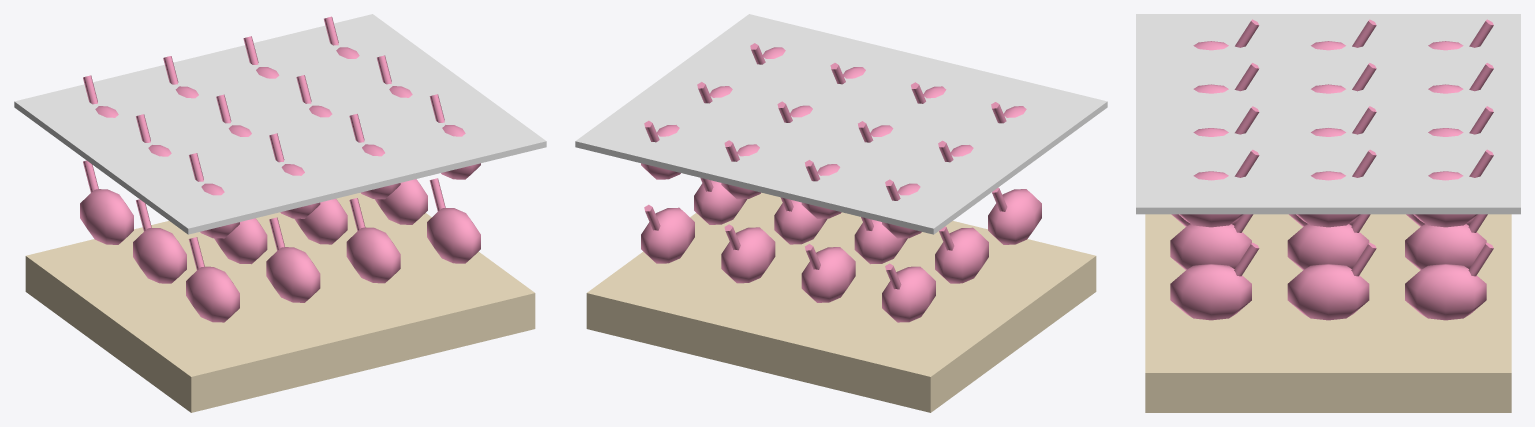
Rendered from flamingo_pallet.glb.
3 views of the same model, side by side, from view 1: azimuth 30°, elevation 25°; view 2: azimuth 150°, elevation 25°; view 3: azimuth 270°, elevation 25° (orthographic). The views are drawn at different scales.
Parts seen in each view (by area): view 1: flamingo_pallet; view 2: flamingo_pallet; view 3: flamingo_pallet.
Part boxes in pixels (<box>): flamingo_pallet: <box>14,14,546,412</box>; flamingo_pallet: <box>575,14,1107,412</box>; flamingo_pallet: <box>1136,14,1520,412</box>.
Bounding box in the file's own units: 1.25 × 0.7067 × 1.05.
